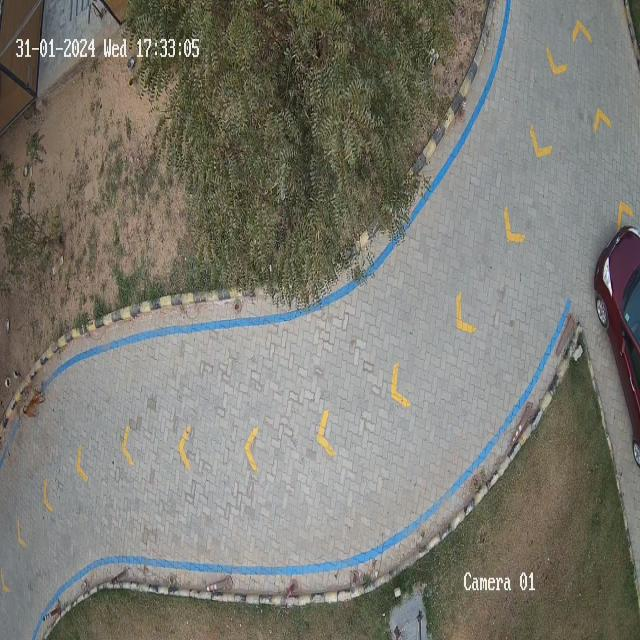car: (594, 224, 640, 467)
